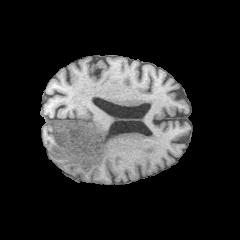glioma: (50, 119, 114, 173)
